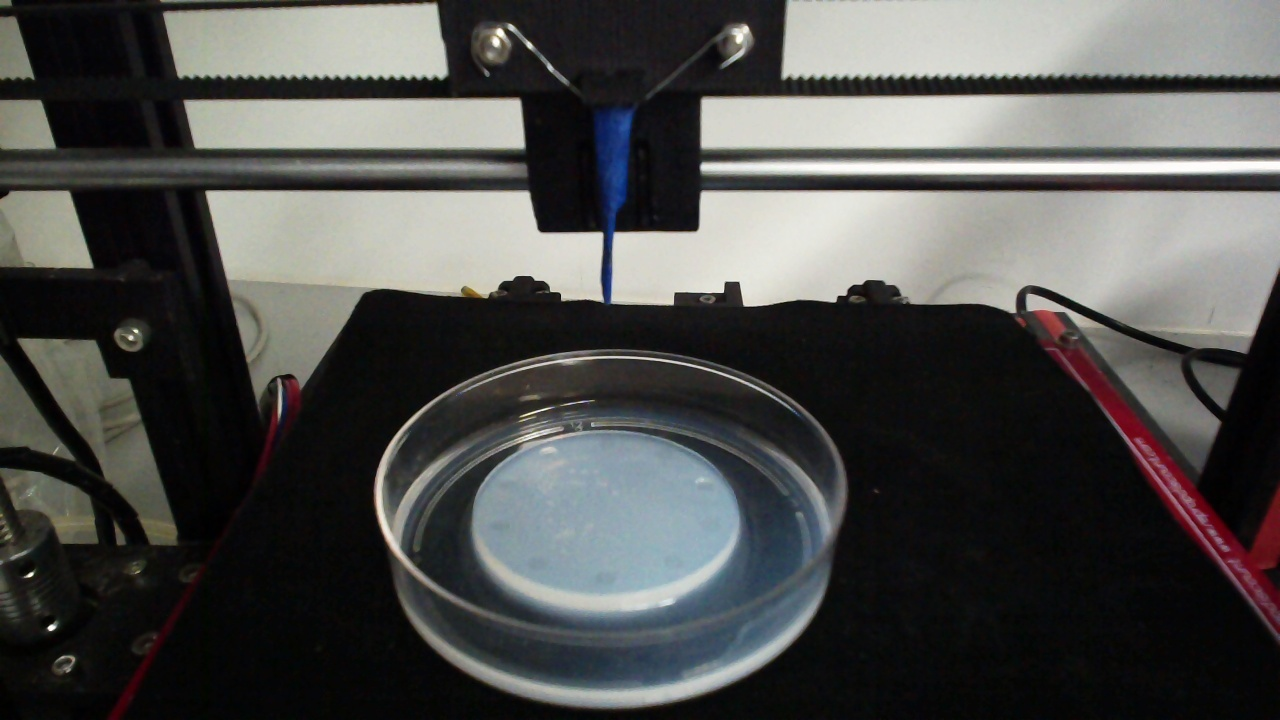groove: (696, 513, 724, 534), (486, 515, 512, 537), (592, 569, 619, 589), (524, 554, 550, 574), (494, 474, 520, 492), (661, 552, 684, 570), (692, 477, 717, 492), (538, 444, 558, 461), (597, 435, 616, 452), (653, 447, 673, 461)
needle: (592, 106, 631, 309)
